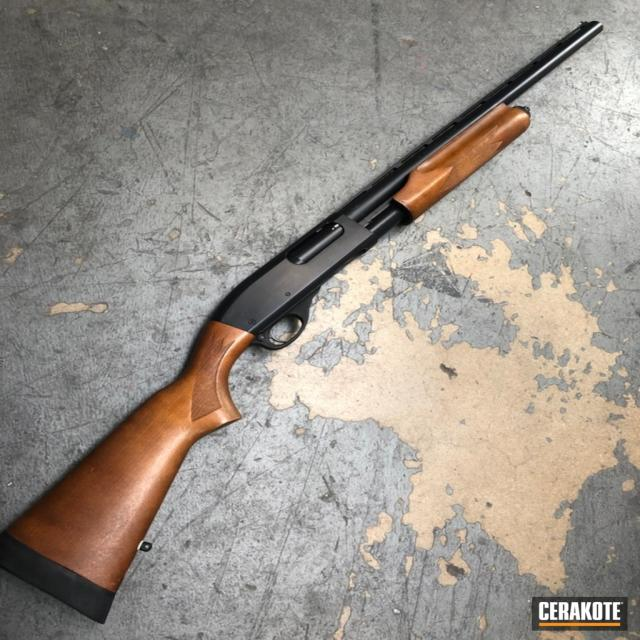ShotGun: (0, 21, 604, 622)
